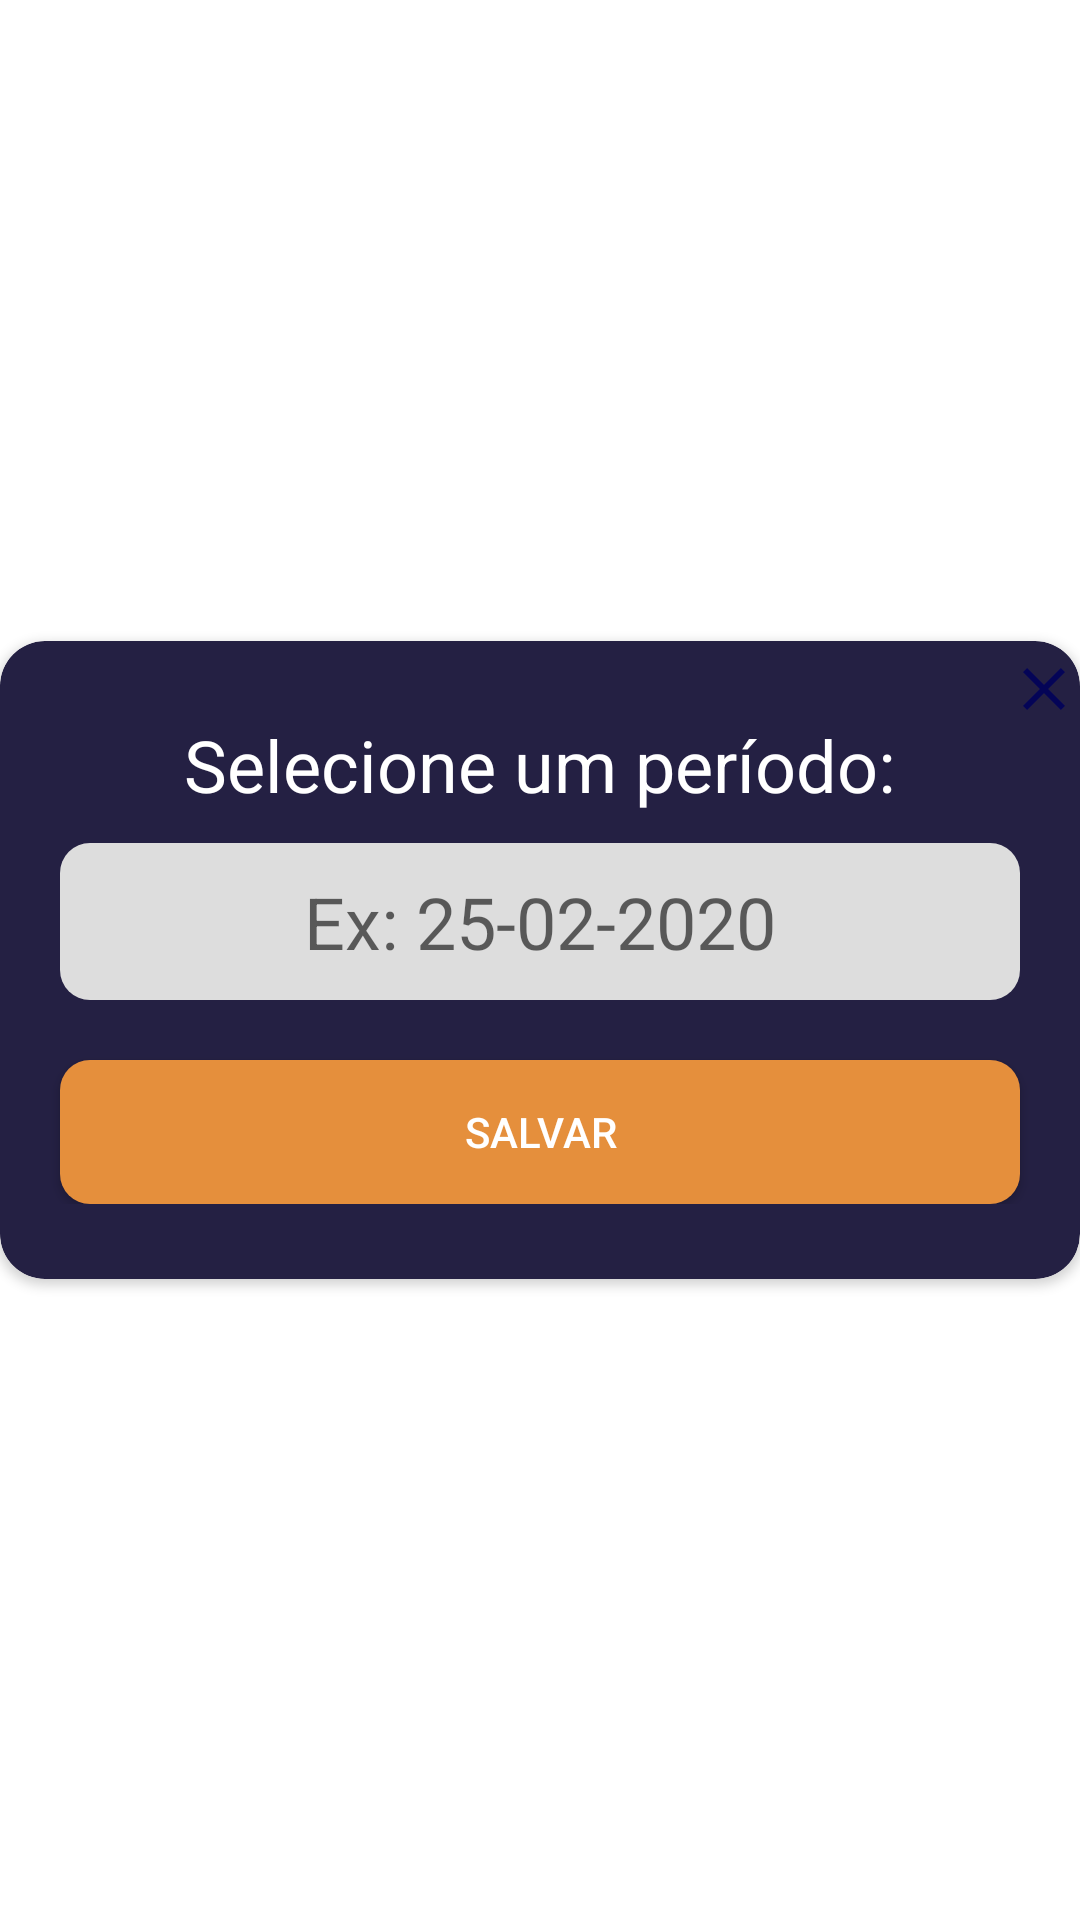

Where to tap for icons on this 1080px×1920px app screen, as (x,y):
close: (1044,689)
